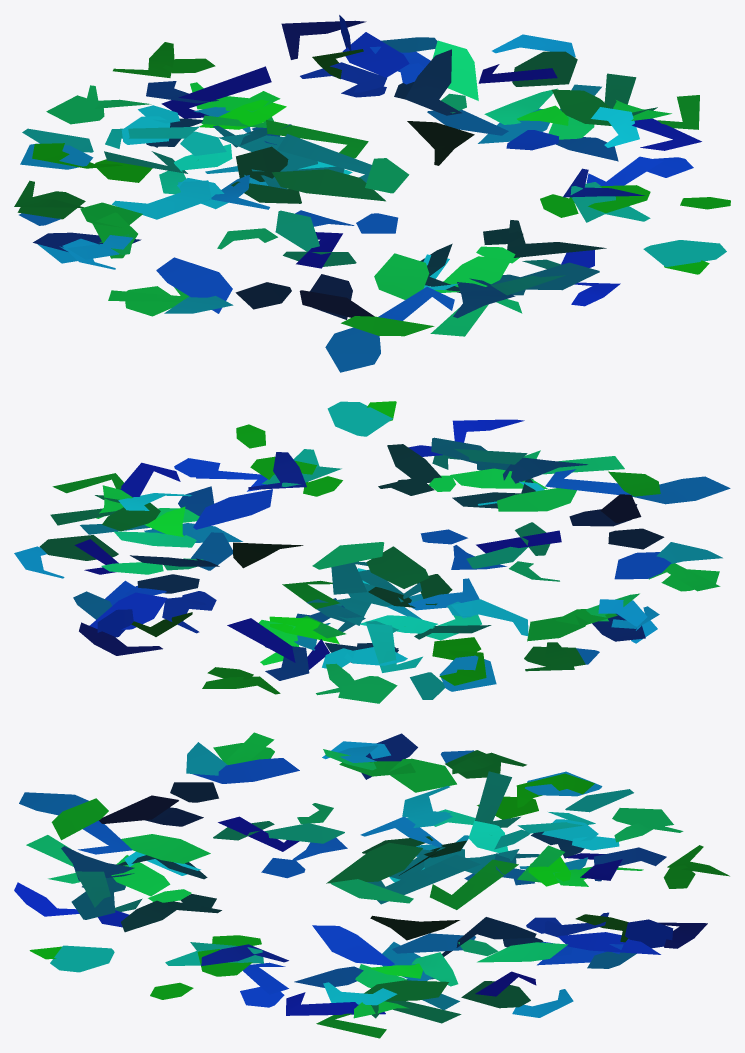
Rendered from Bigleaf_Hydrangea_vgztealha_Mid_vgztealha_VarB_LOD1.fbx.
The picture shows the model from 3 angles, top to bottom: view 1: azimuth 30°, elevation 25°; view 2: azimuth 150°, elevation 25°; view 3: azimuth 270°, elevation 25°; orthographic projection. The views are drawn at different scales.
Parts seen in each view (by area): view 1: _05nq_VarB_LOD3; view 2: _05nq_VarB_LOD3; view 3: _05nq_VarB_LOD3.
Boxes of the visible parts, <box> form: _05nq_VarB_LOD3: <box>14,15,730,372</box>; _05nq_VarB_LOD3: <box>14,401,730,703</box>; _05nq_VarB_LOD3: <box>14,732,729,1038</box>.
Size of the model in its own units: 111 by 5.65 by 111.
